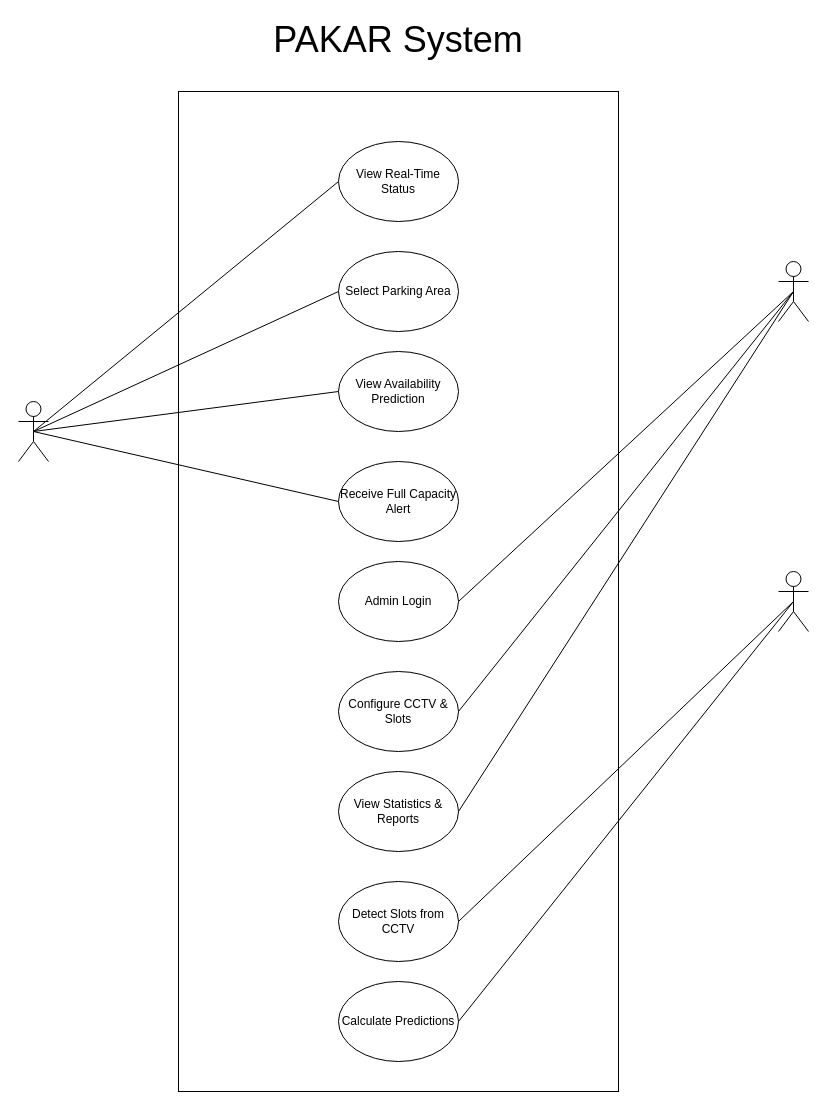
Image size: 838x1109. Some labels were removed from this diagram. Here are the shapes that lost their labels. From the top down, the box of each, then its label:
(778, 260, 808, 322): Admin
(18, 400, 48, 462): Driver
(778, 570, 808, 632): AI System
